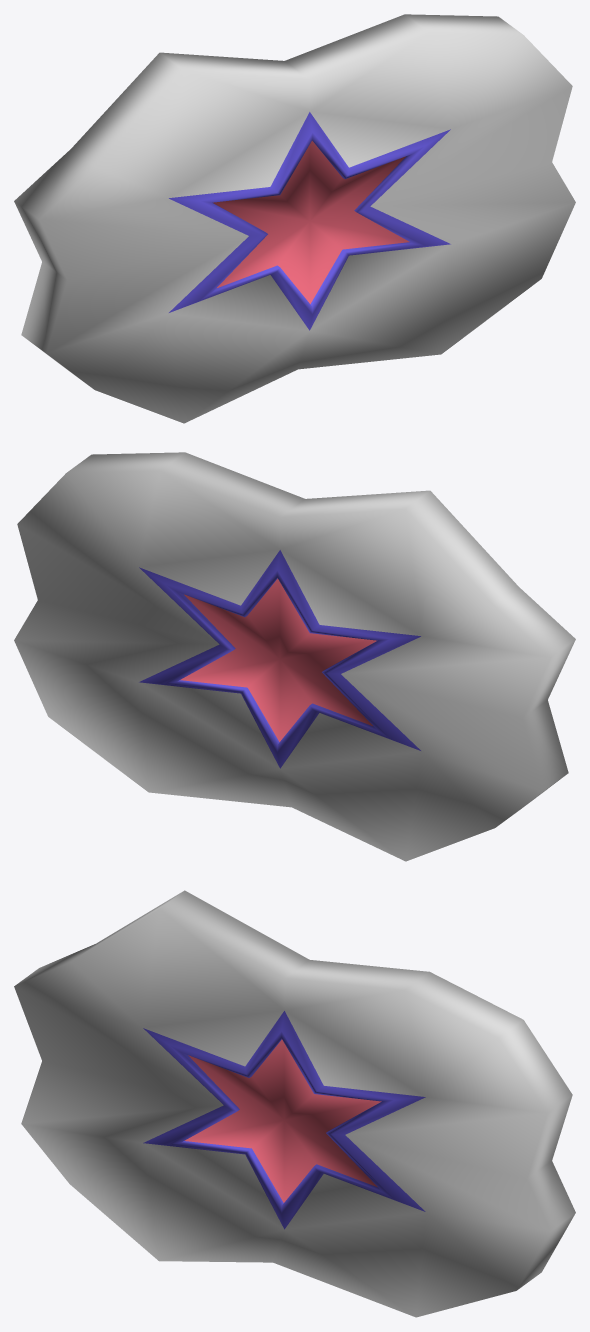
The model's file is BreakableWall_Model_01.fbx.
The picture shows the model from 3 angles, top to bottom: view 1: azimuth 30°, elevation 25°; view 2: azimuth 150°, elevation 25°; view 3: azimuth 330°, elevation 25°; orthographic projection.
Parts seen in each view (by area): view 1: BreakableWall_Model_01; view 2: BreakableWall_Model_01; view 3: BreakableWall_Model_01.
Boxes of the visible parts, x1,y1,x2,y2 form: BreakableWall_Model_01: (14,14,575,423); BreakableWall_Model_01: (14,452,575,861); BreakableWall_Model_01: (14,890,575,1317).
Size of the model in its own units: 736 by 462 by 73.49.
